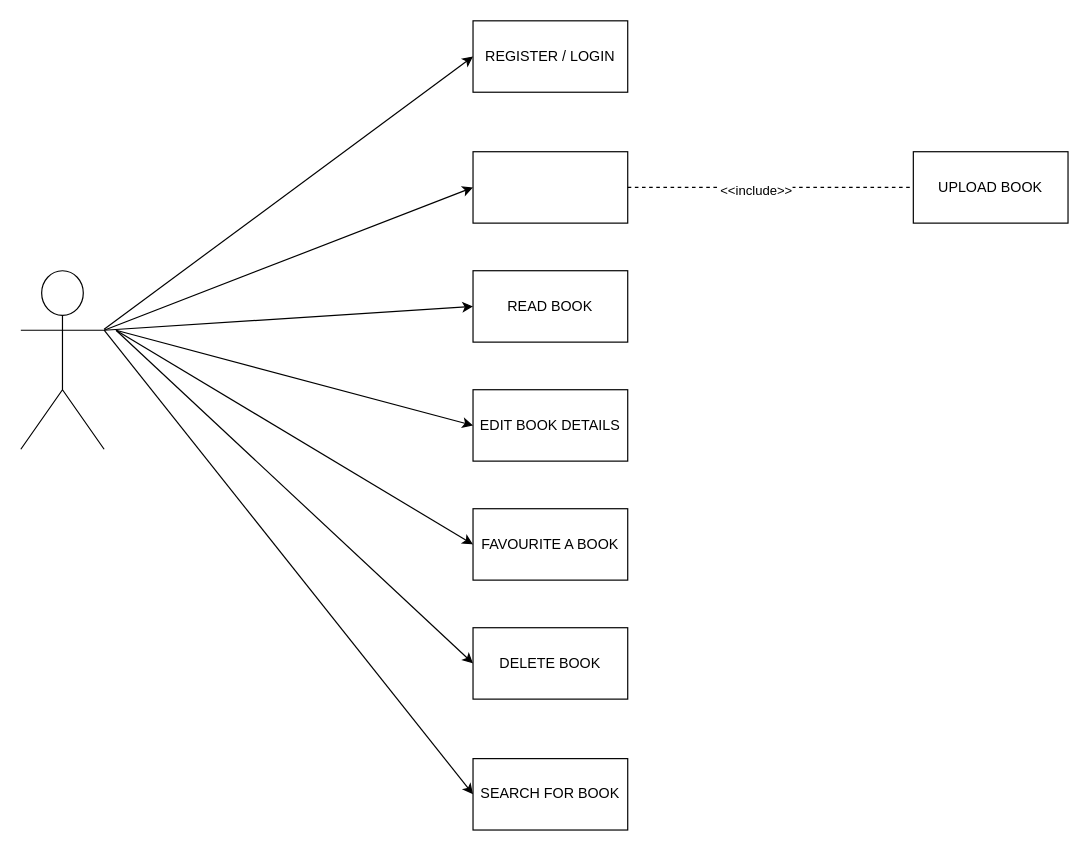
The diagram is 1089 pixels wide and 851 high, and some of its shapes have lost their labels. Here are the shapes that lost their labels. From the top down, the centre of each, then its label:
At point 550,187: "ADD BOOK".
At point 62,359: "USER".
